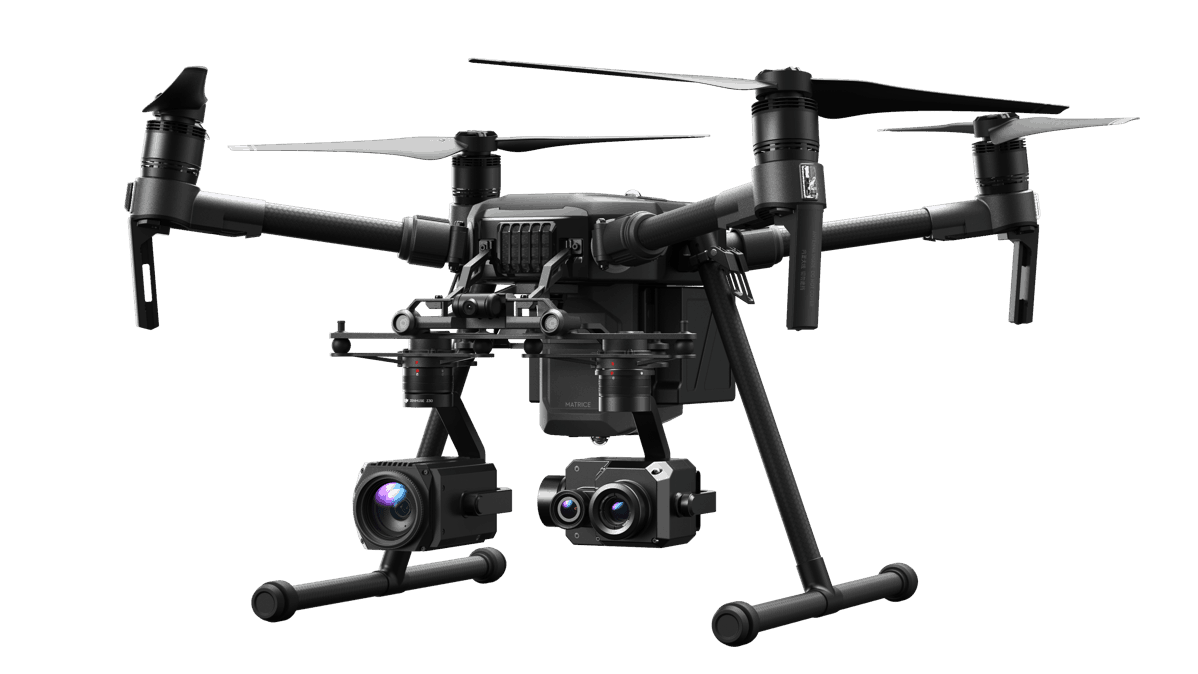drone: (123, 43, 1154, 650)
